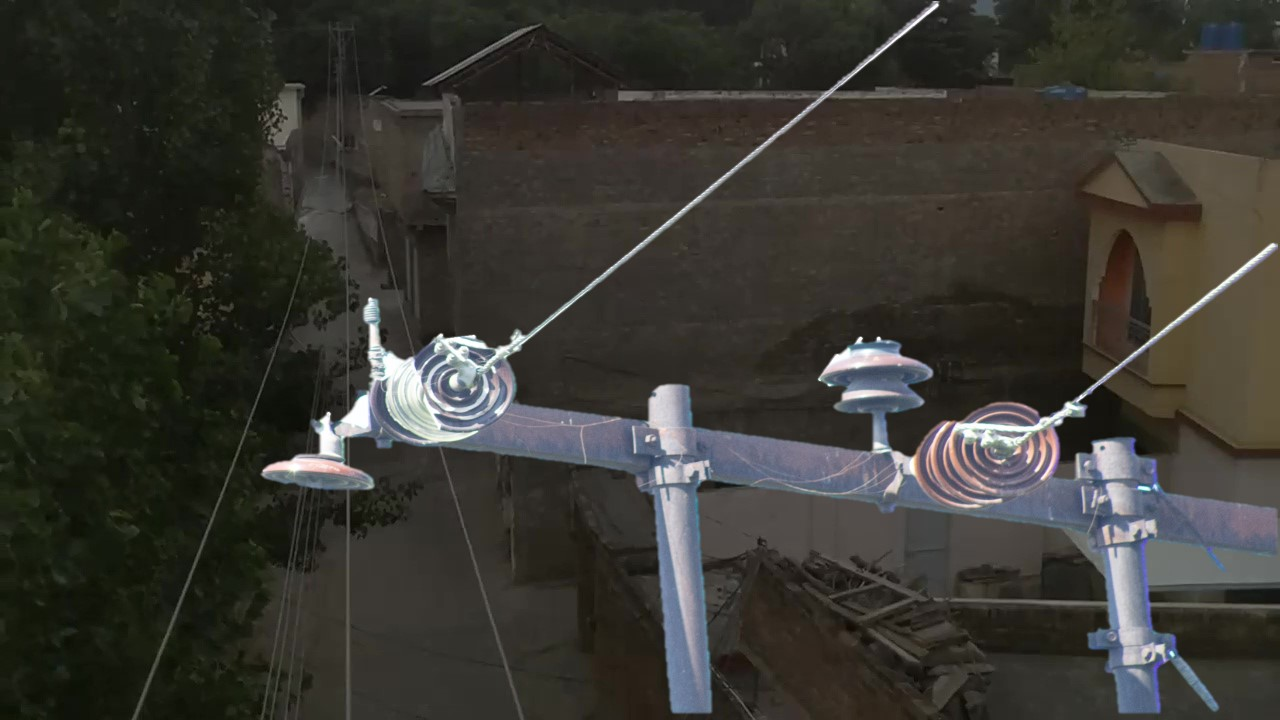defect_disc: (410, 328, 520, 443)
insulator_disc: (945, 396, 1062, 496), (257, 426, 381, 505)
